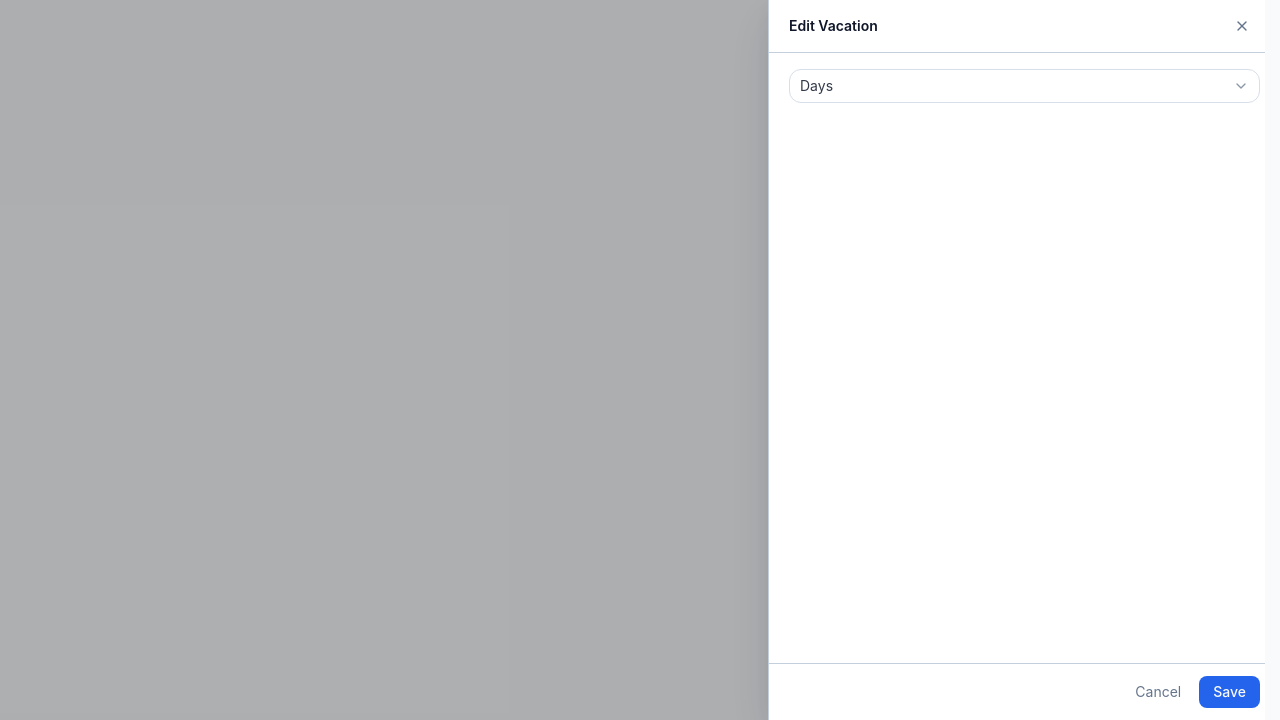
Test: FancySelect inside a drawer › its list is layered above the drawer it is opened from
Click the dropdown named "Booked in": (817, 86) [789,69,1260,103]
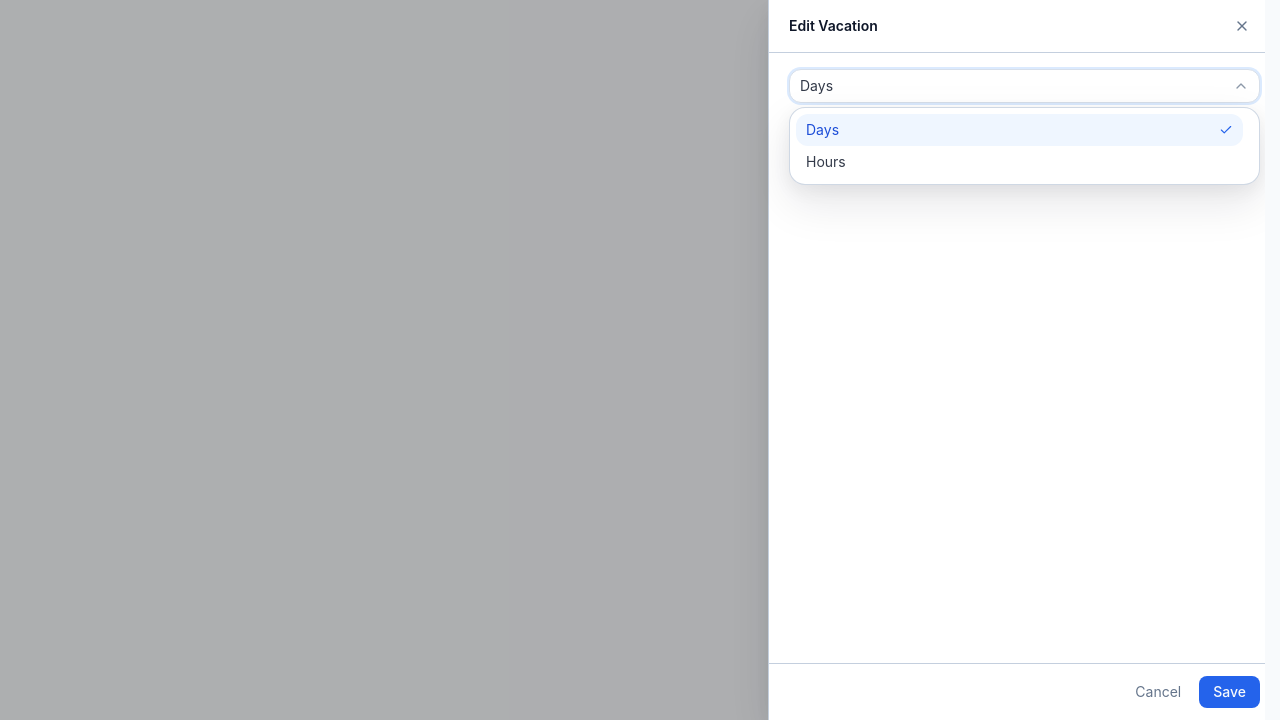
Result: the option "Hours" is shown at [806,153,846,170]
